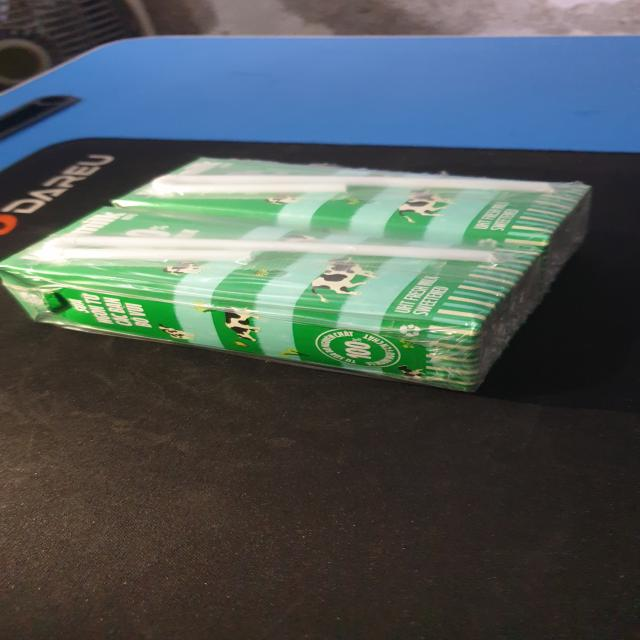Vina: (1, 204, 548, 391), (111, 156, 592, 291)
